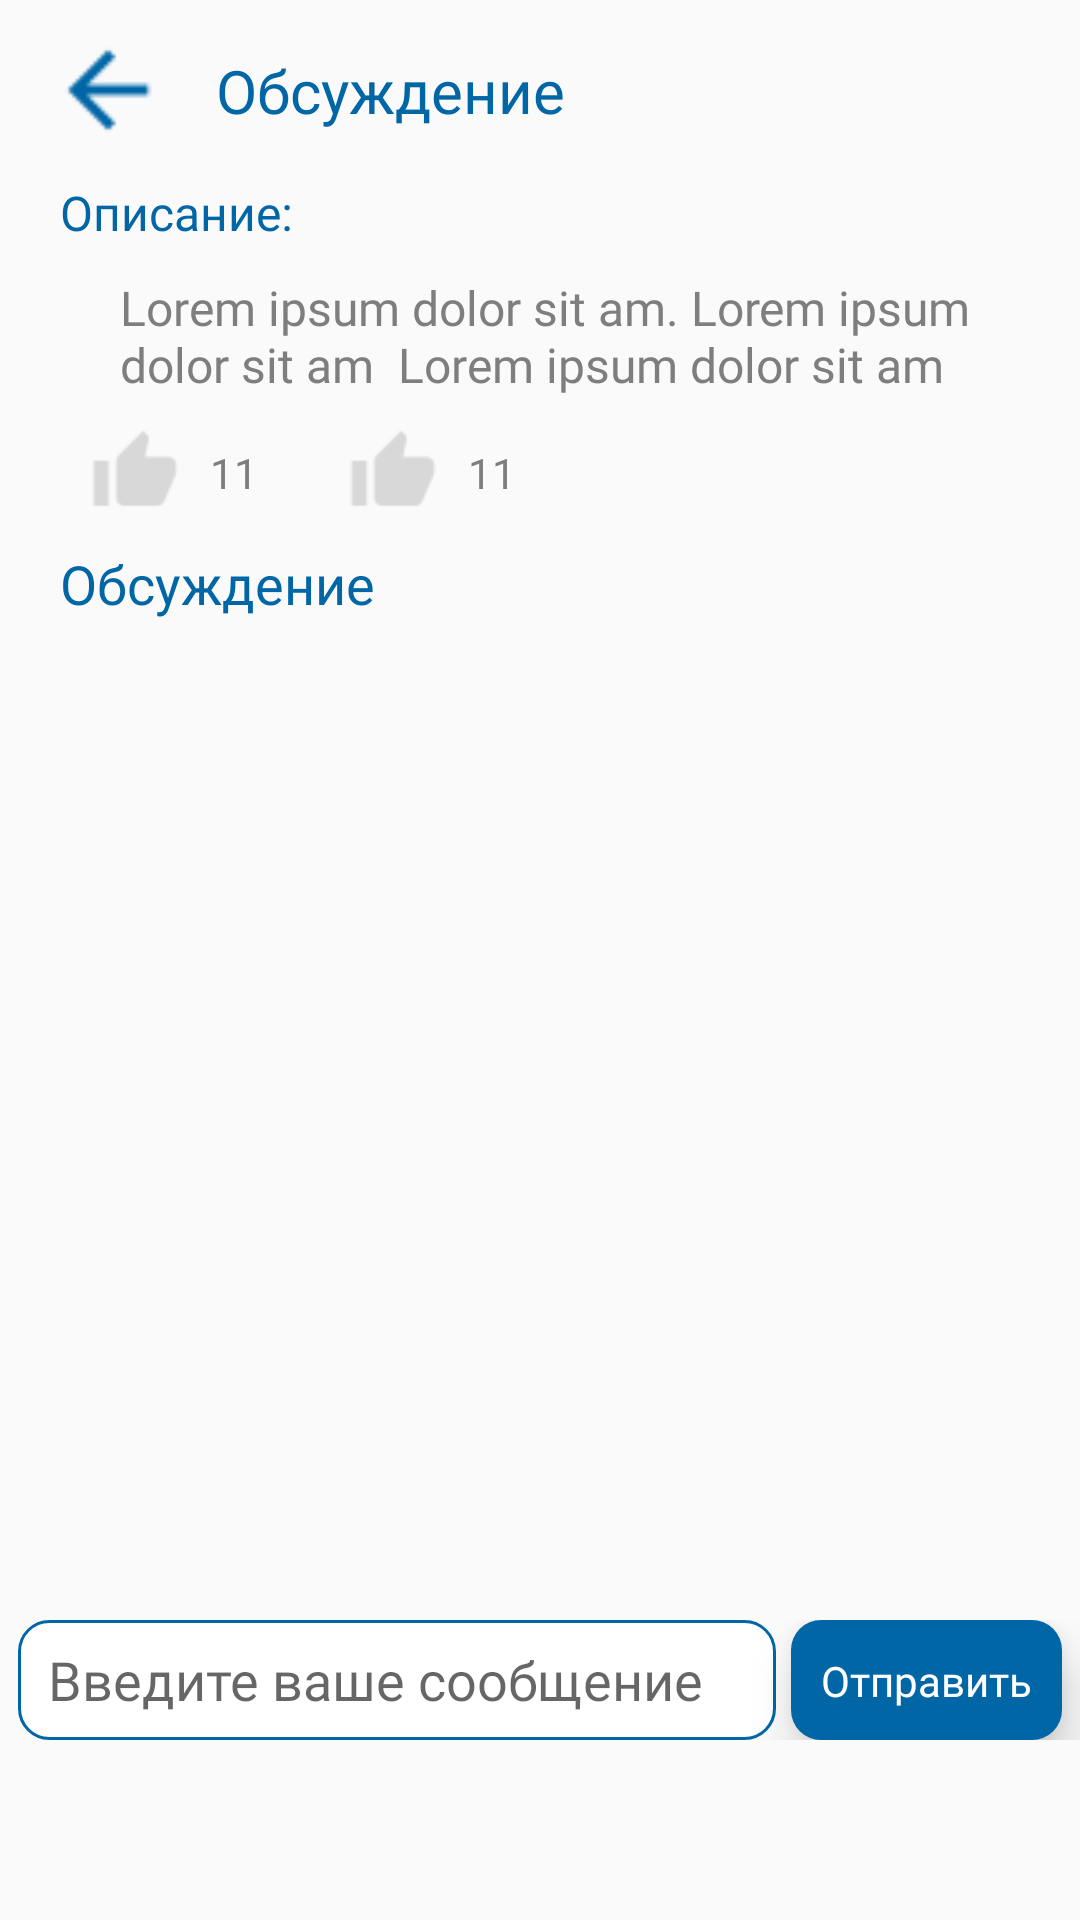

Locate icon controls on the screen. Image size 1080px x 1920px, boxes as (x1, y1, x2, y2).
arrow back: (68, 50, 151, 130)
thumb up: (95, 432, 175, 505), (353, 432, 433, 505)
